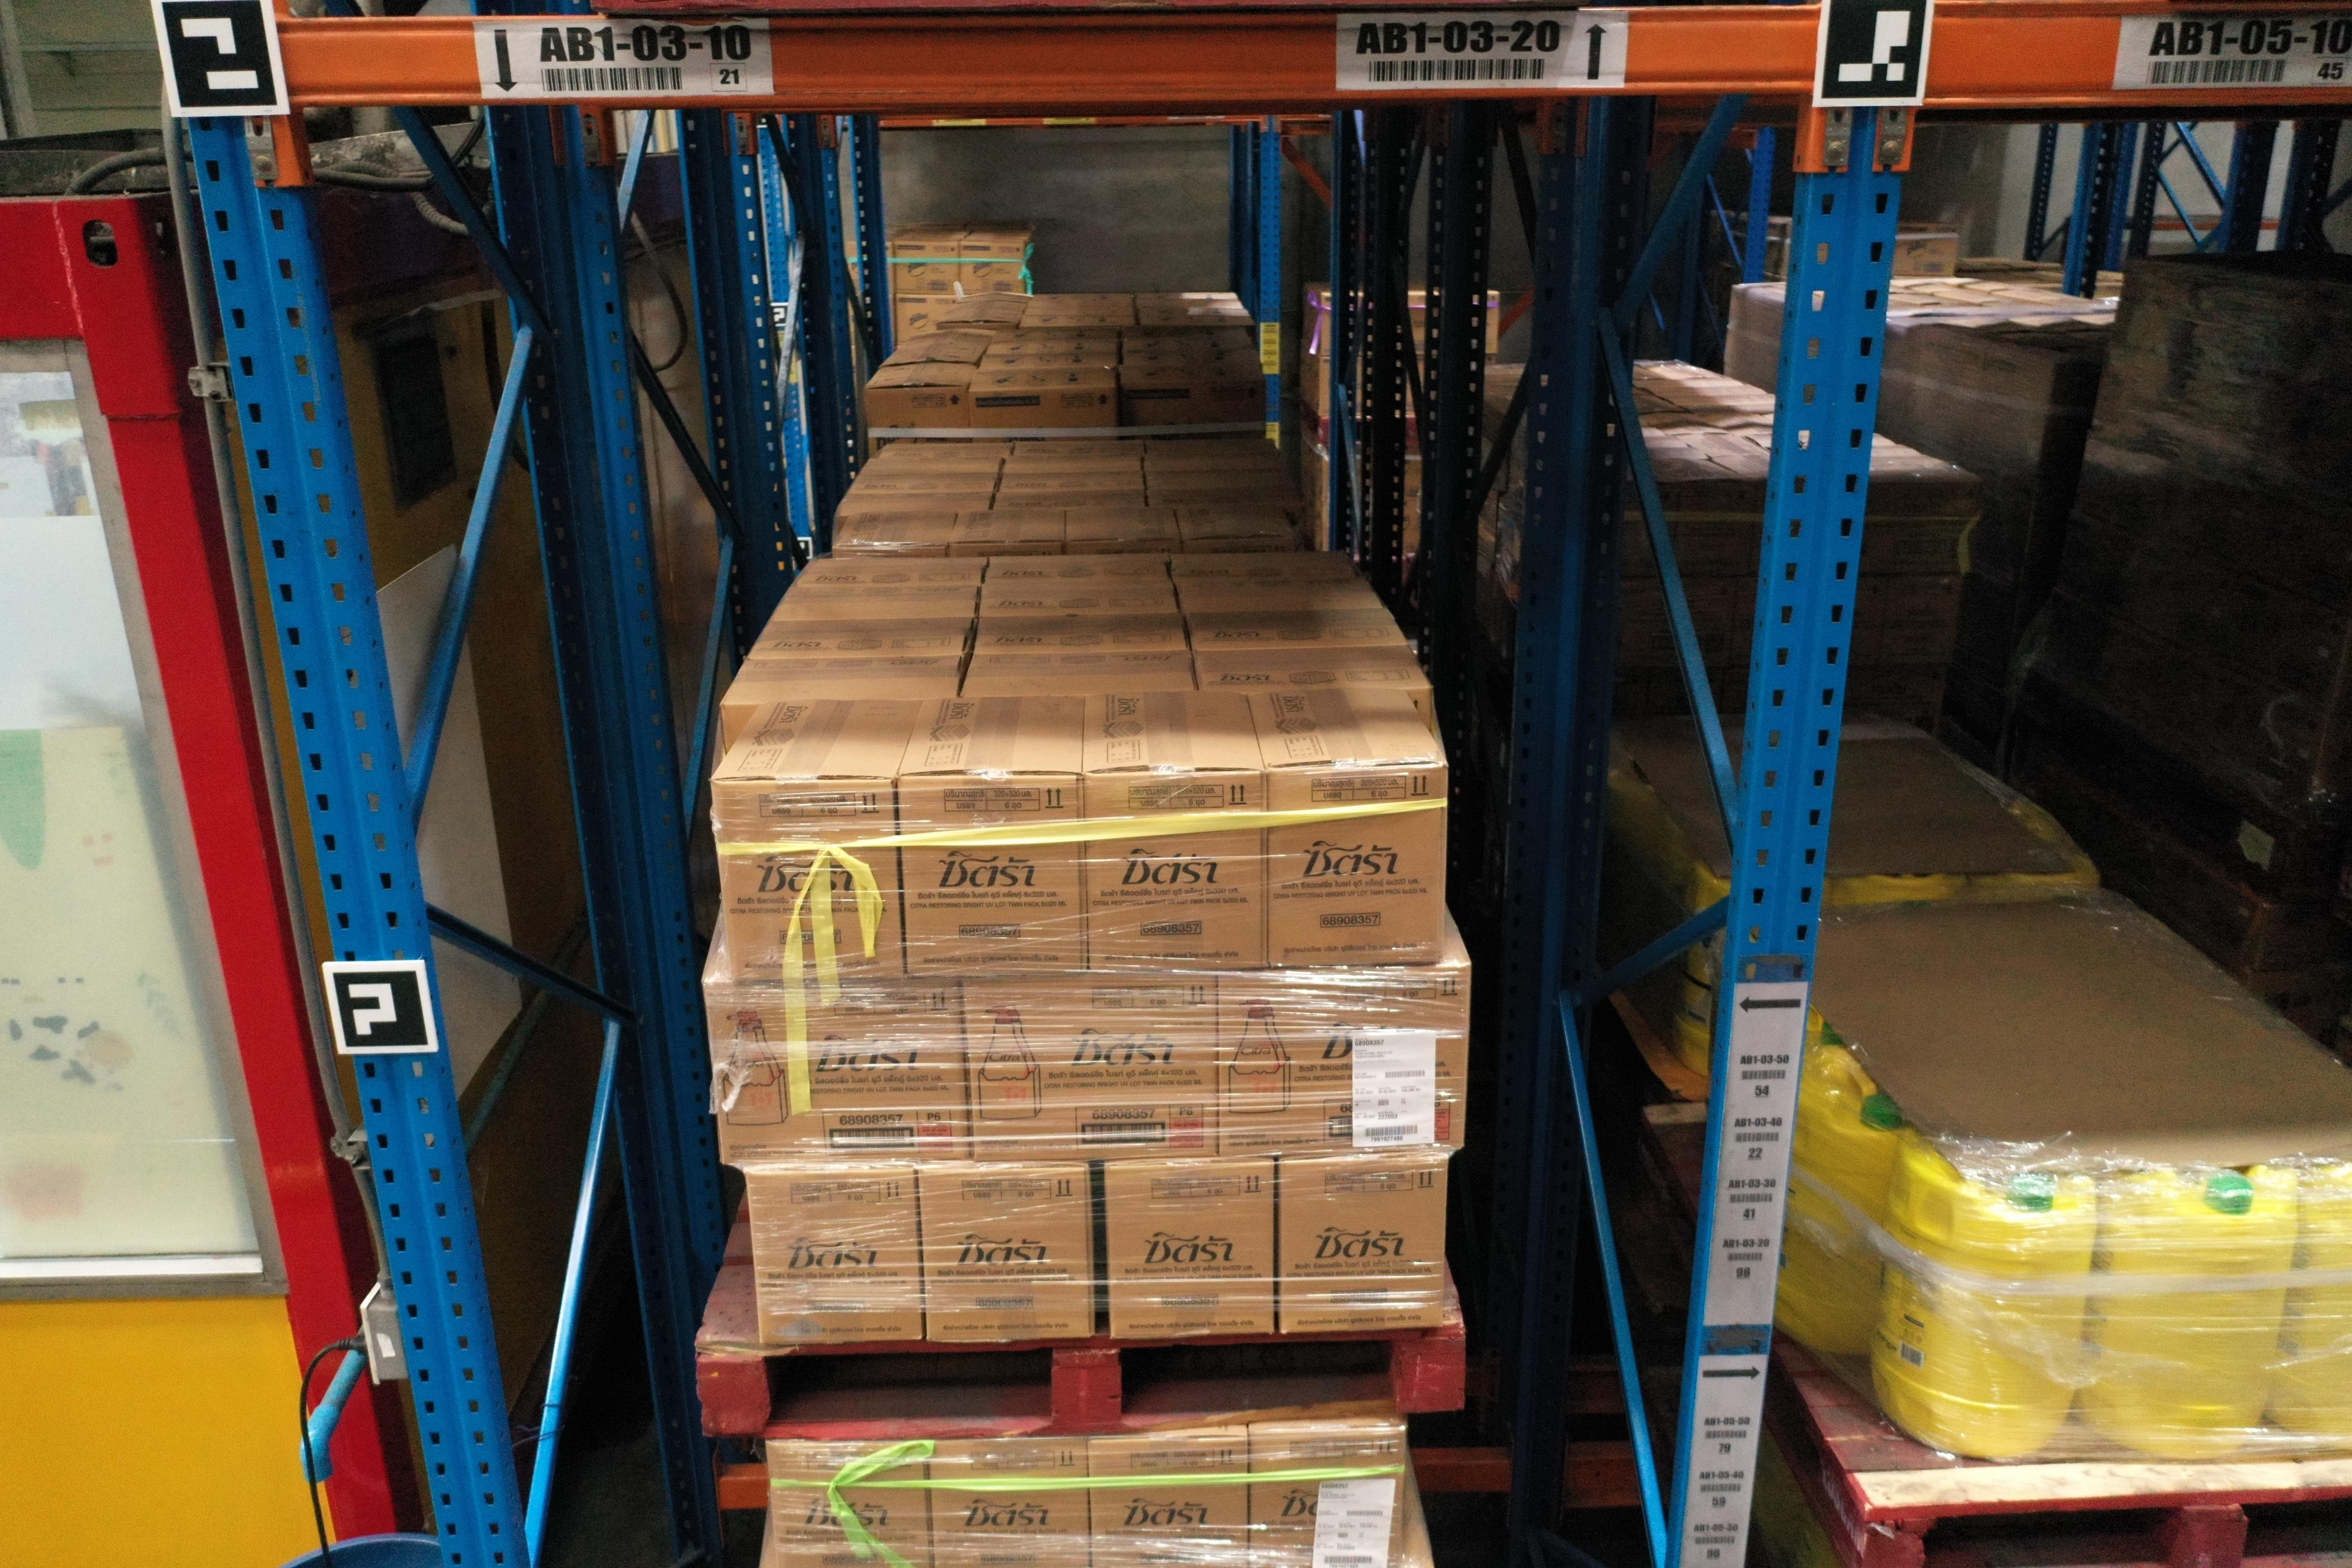-: (1214, 964, 1472, 1165), (703, 980, 973, 1165), (962, 976, 1218, 1167), (709, 775, 905, 987), (889, 772, 1087, 980), (1265, 763, 1449, 971), (1087, 772, 1270, 973), (745, 1165, 929, 1347), (1102, 1160, 1276, 1339), (1276, 1153, 1449, 1332), (917, 1165, 1092, 1340), (1246, 1426, 1405, 1568), (1087, 1433, 1249, 1568), (766, 1440, 934, 1568), (929, 1438, 1094, 1568)
